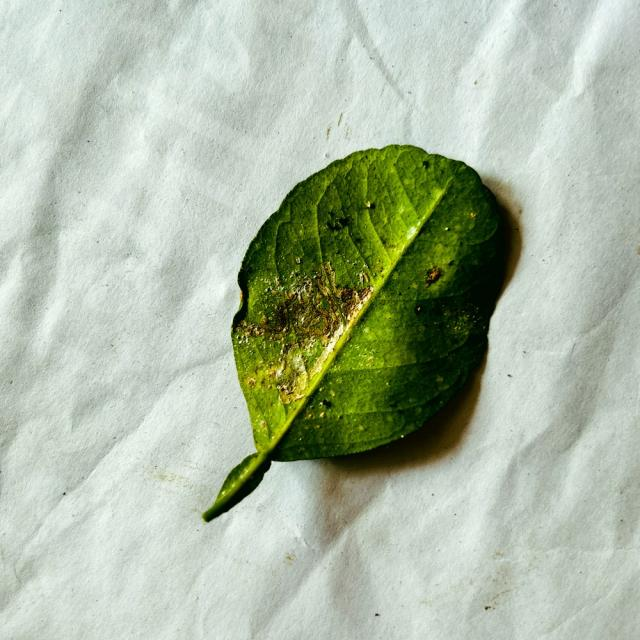Bacterial_Blight: (241, 260, 368, 399), (368, 152, 428, 253), (280, 266, 344, 345), (347, 188, 390, 274), (276, 291, 329, 333), (275, 355, 308, 402), (254, 302, 292, 340), (295, 300, 332, 339), (338, 285, 370, 321), (316, 262, 341, 298), (327, 282, 347, 323), (238, 319, 271, 339), (327, 211, 348, 230), (341, 288, 355, 303), (252, 325, 265, 337), (278, 382, 290, 395), (276, 360, 286, 375), (361, 271, 370, 284), (285, 291, 296, 301)
Lemon: (202, 145, 520, 522)
